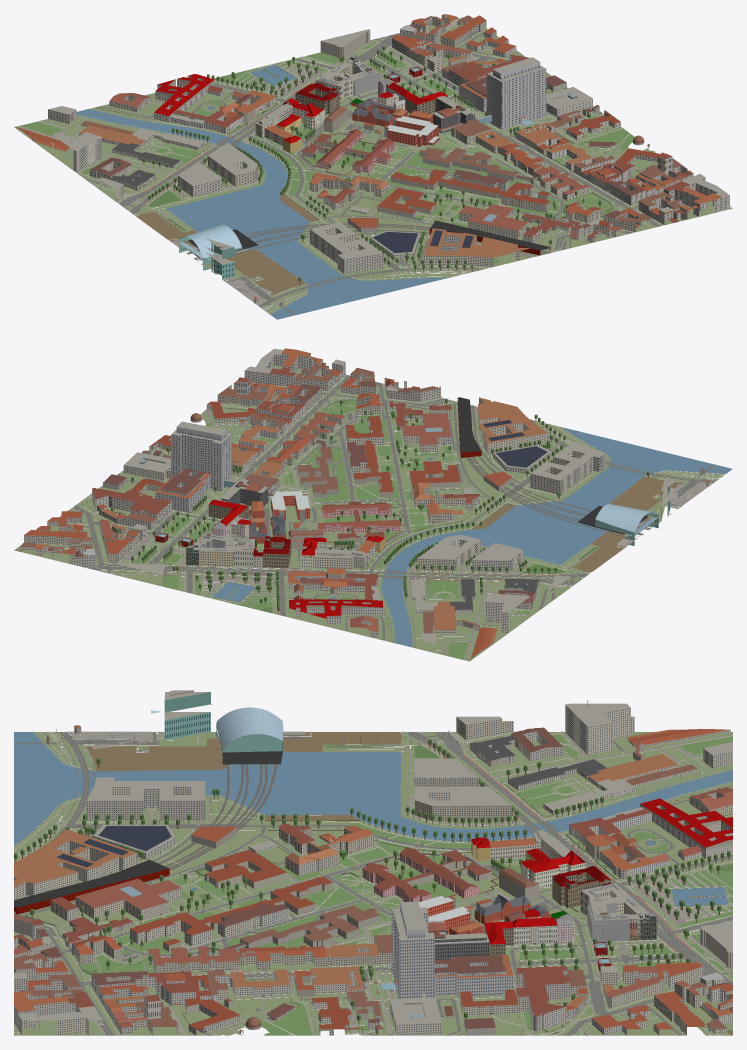
The picture shows the model from 3 angles, top to bottom: view 1: azimuth 30°, elevation 25°; view 2: azimuth 150°, elevation 25°; view 3: azimuth 270°, elevation 25°; orthographic projection. The views are drawn at different scales.
Size of the model in its own units: 750 by 92.3 by 750.
Materials: 3 (1 with a texture image).
